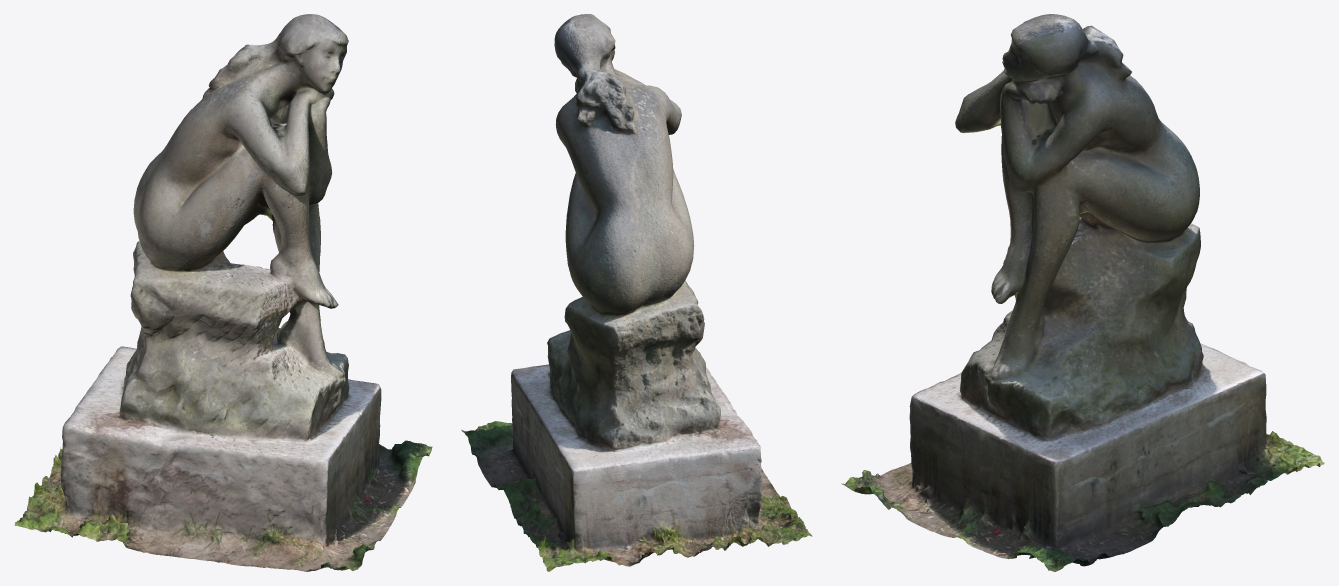
3 views of the same model, side by side, from view 1: azimuth 30°, elevation 25°; view 2: azimuth 150°, elevation 25°; view 3: azimuth 270°, elevation 25° (orthographic). The views are drawn at different scales.
Parts seen in each view (by area): view 1: socha_06_kampa; view 2: socha_06_kampa; view 3: socha_06_kampa.
Part boxes in pixels (x1,y1,x2,y2): socha_06_kampa: [14, 14, 432, 571]; socha_06_kampa: [461, 14, 812, 571]; socha_06_kampa: [841, 14, 1324, 571].
Bounding box in the file's own units: 1.83 × 2.11 × 1.83.
1 material, 1 textured.
